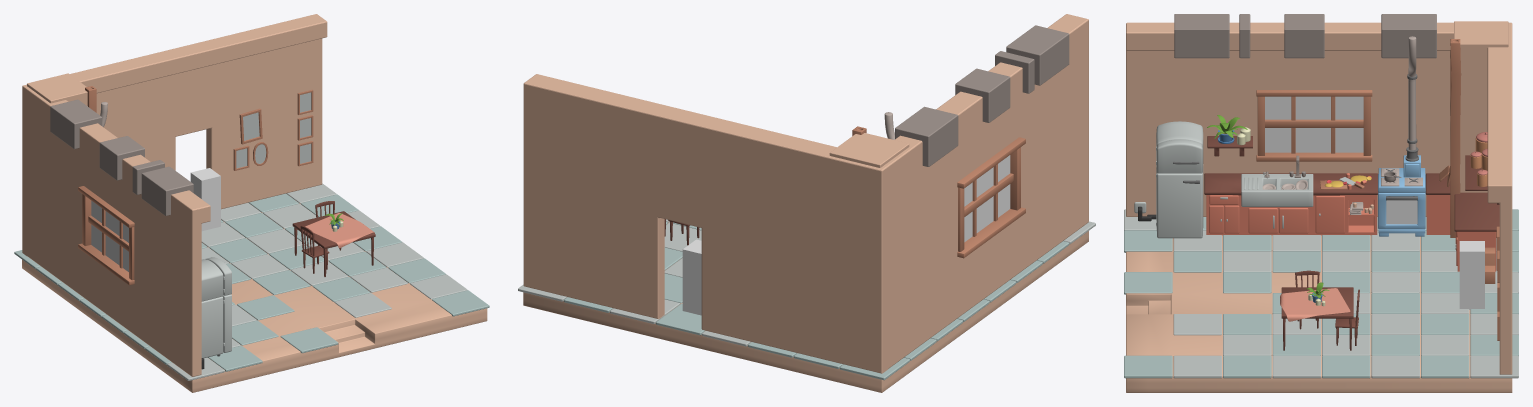
The model's file is Kitchen.fbx.
3 renders of one model, left to right at view 1: azimuth 30°, elevation 25°; view 2: azimuth 150°, elevation 25°; view 3: azimuth 270°, elevation 25°, orthographic. The views are drawn at different scales.
Visible parts, largest first — view 1: WallKitchen_Right.002, WallKitchen_Left.001, Cube.031, Cube.029, WallKitchen_Left.004, Window.002, Fridge.002, Plant.003, Cube.026, Cube.016, Cube.004, Window_Glass.002 (+3 smaller); view 2: WallKitchen_Right.002, WallKitchen_Left.001, Cube.029, WallKitchen_Left.004, Cube.031, Window.002, Window_Glass.002, Cube.016, Cube.004; view 3: Cube.031, WallKitchen_Left.001, Cube.029, Cube.009, WallKitchen_Left.004, WallKitchen_Right.002, Window_Glass.002, Cube.016, Window.002, Fridge_Door.002, Furnace.002, Fridge.002 (+13 smaller).
Part boxes in pixels (x1=…): WallKitchen_Right.002: x1=22, y1=14, x2=327, y2=256; WallKitchen_Left.001: x1=22, y1=87, x2=210, y2=376; Cube.031: x1=14, y1=183, x2=489, y2=380; Cube.029: x1=22, y1=196, x2=487, y2=392; WallKitchen_Left.004: x1=50, y1=99, x2=193, y2=215; Window.002: x1=78, y1=186, x2=134, y2=285; Fridge.002: x1=201, y1=257, x2=231, y2=358; Plant.003: x1=292, y1=211, x2=375, y2=276; Cube.026: x1=233, y1=89, x2=313, y2=170; Cube.016: x1=27, y1=73, x2=87, y2=106; Cube.004: x1=190, y1=168, x2=220, y2=231; Window_Glass.002: x1=91, y1=200, x2=128, y2=271; WallKitchen_Right.002: x1=523, y1=74, x2=894, y2=373; WallKitchen_Left.001: x1=862, y1=14, x2=1088, y2=372; Cube.029: x1=523, y1=222, x2=1088, y2=392; WallKitchen_Left.004: x1=895, y1=25, x2=1069, y2=166; Cube.031: x1=518, y1=219, x2=1095, y2=380; Window.002: x1=957, y1=137, x2=1025, y2=258; Window_Glass.002: x1=964, y1=155, x2=1010, y2=242; Cube.016: x1=829, y1=133, x2=909, y2=167; Cube.004: x1=682, y1=239, x2=701, y2=315; Cube.031: x1=1124, y1=209, x2=1518, y2=378; WallKitchen_Left.001: x1=1126, y1=22, x2=1453, y2=216; Cube.029: x1=1126, y1=235, x2=1512, y2=392; Cube.009: x1=1204, y1=173, x2=1499, y2=271; WallKitchen_Left.004: x1=1174, y1=14, x2=1436, y2=58; WallKitchen_Right.002: x1=1487, y1=22, x2=1512, y2=374; Window_Glass.002: x1=1265, y1=96, x2=1363, y2=152; Cube.016: x1=1454, y1=21, x2=1508, y2=192; Window.002: x1=1256, y1=90, x2=1372, y2=161; Fridge_Door.002: x1=1157, y1=172, x2=1202, y2=238; Furnace.002: x1=1378, y1=36, x2=1425, y2=236; Fridge.002: x1=1156, y1=121, x2=1203, y2=230.
Size of the model in its own units: 615 by 369 by 613.
